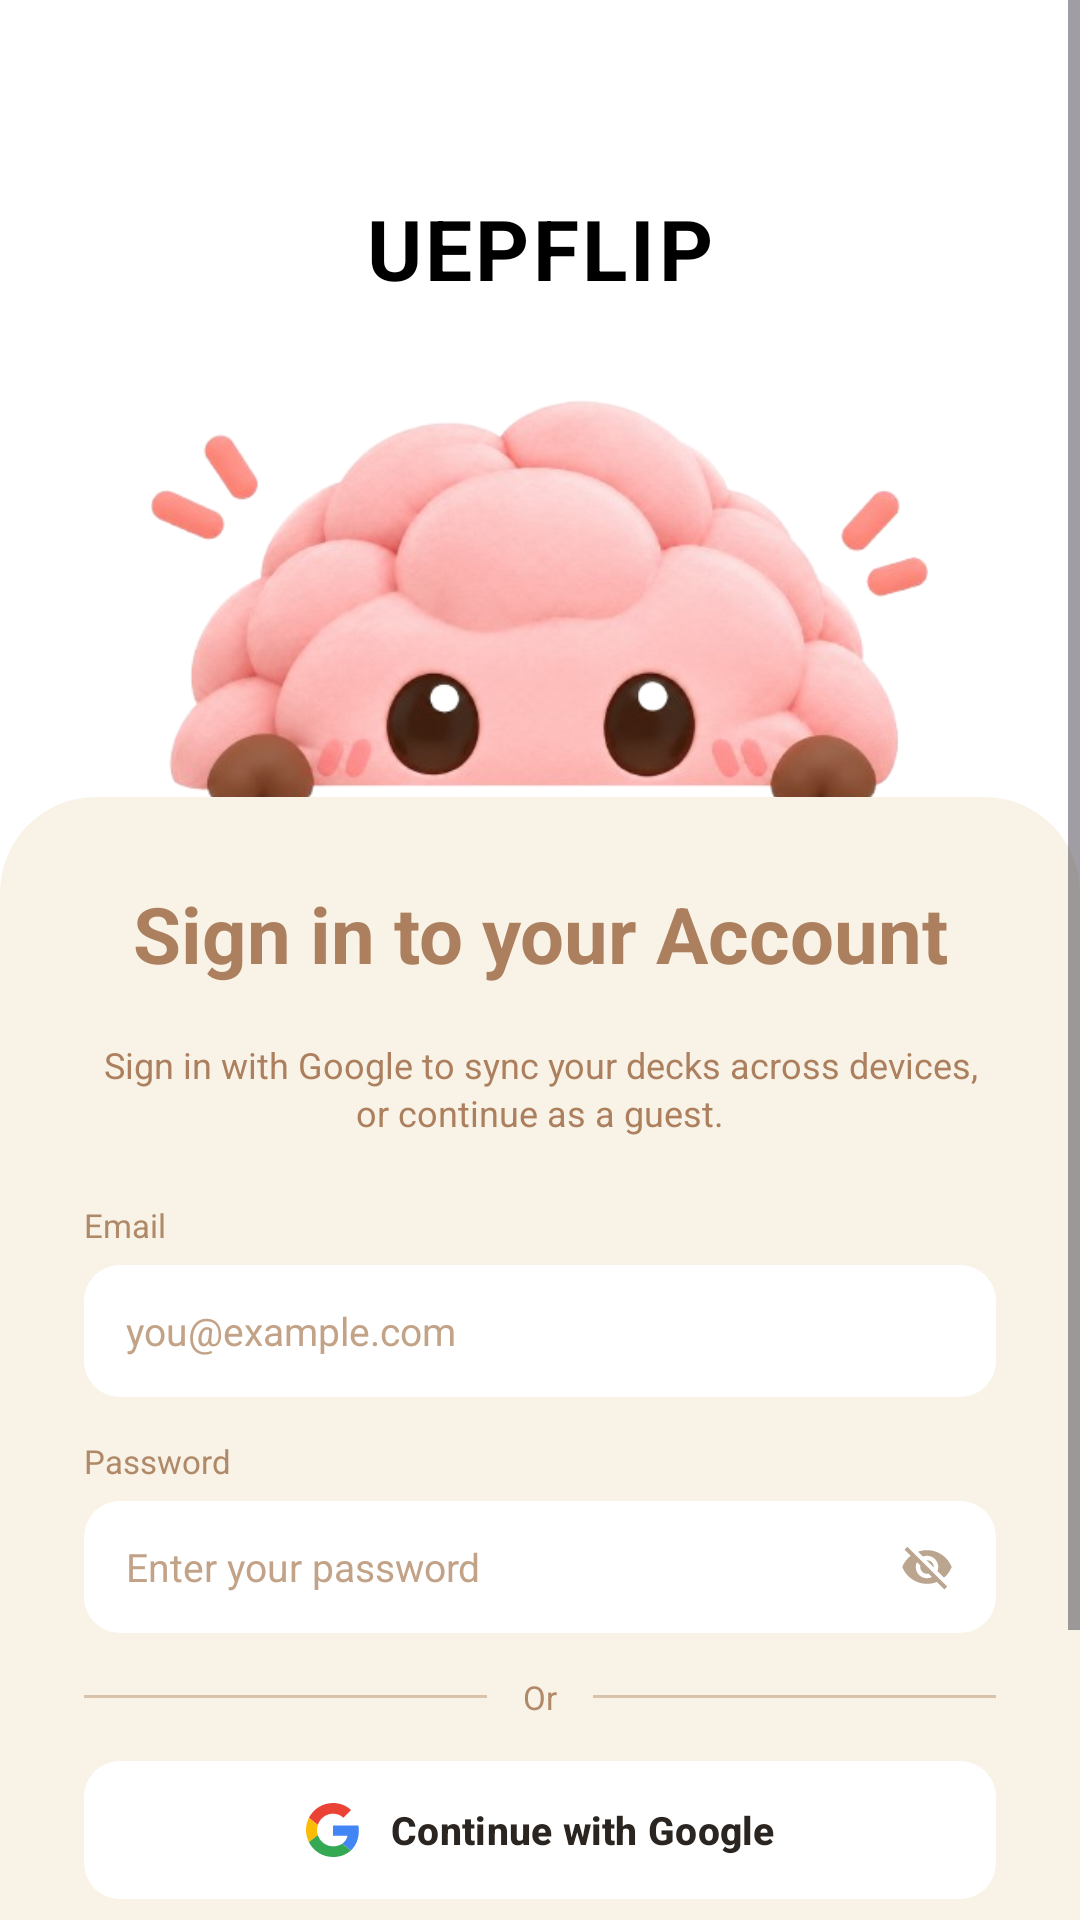

Icons on this 1080px×1920px Android screen, each with the point to tap as (x,y):
Show or hide password: (927,1568)
